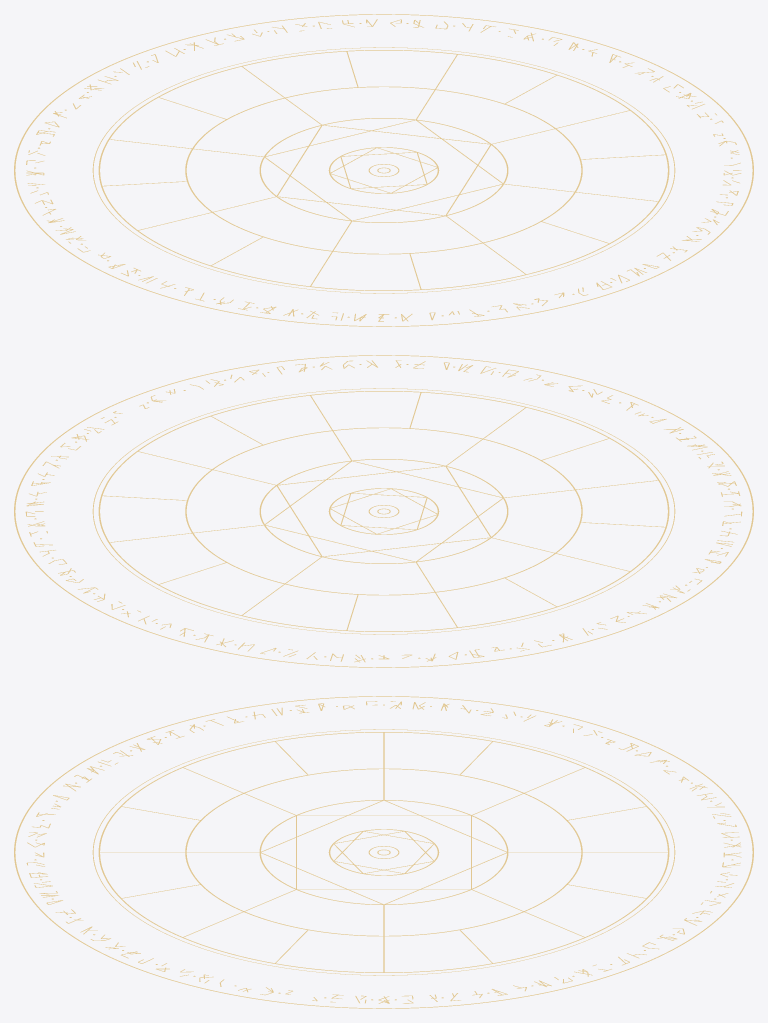
The model's file is SM_MerkezRun.glb.
The picture shows the model from 3 angles, top to bottom: view 1: azimuth 30°, elevation 25°; view 2: azimuth 150°, elevation 25°; view 3: azimuth 270°, elevation 25°; orthographic projection.
Visible parts, largest first — view 1: geometry_0; view 2: geometry_0; view 3: geometry_0.
Boxes of the visible parts, x1,y1,x2,y2 form: geometry_0: (14, 14, 753, 326); geometry_0: (14, 355, 753, 667); geometry_0: (14, 696, 753, 1008).
Bounding box in the file's own units: 29.9 × 0 × 29.9.
